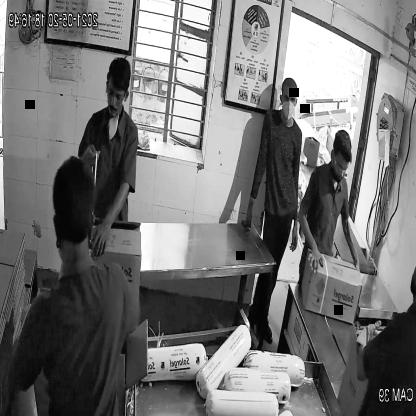goggles: (331, 159, 352, 178)
no_goggles: (279, 92, 300, 106)
